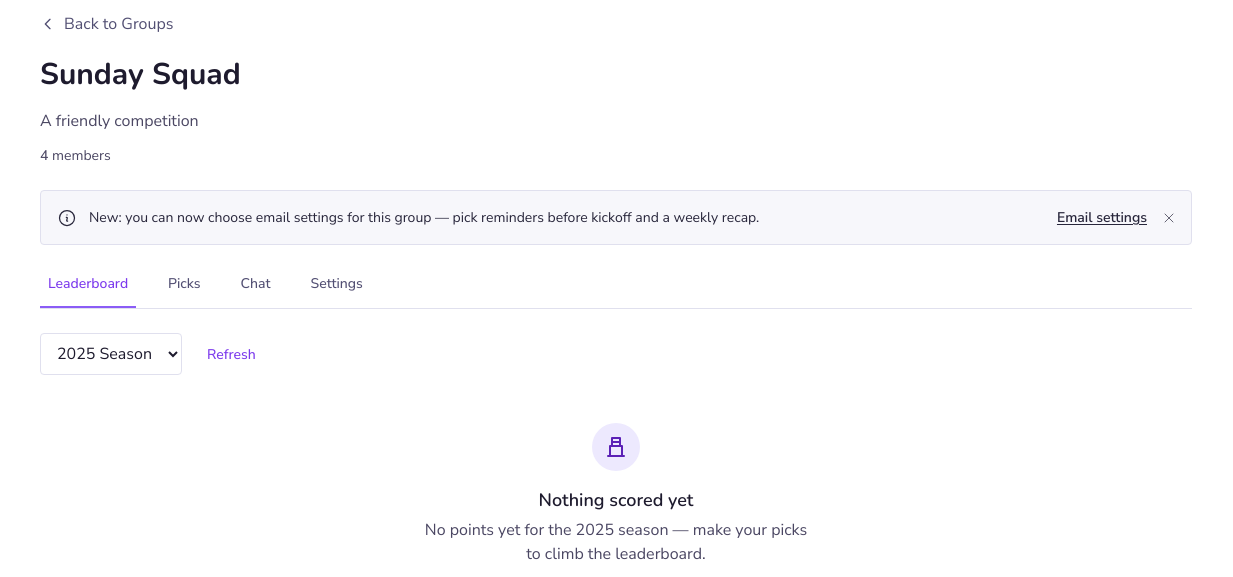
Test case: GroupDetailsPage › unread chat indicator › does not mark the chat read when Chat is opened with nothing unread
This screenshot has width=1233, height=577.
Expected: the heading "Sunday Squad" is shown, [40,54,241,95]
Click the tab "Chat" at (256, 290), box [233,273,278,308]
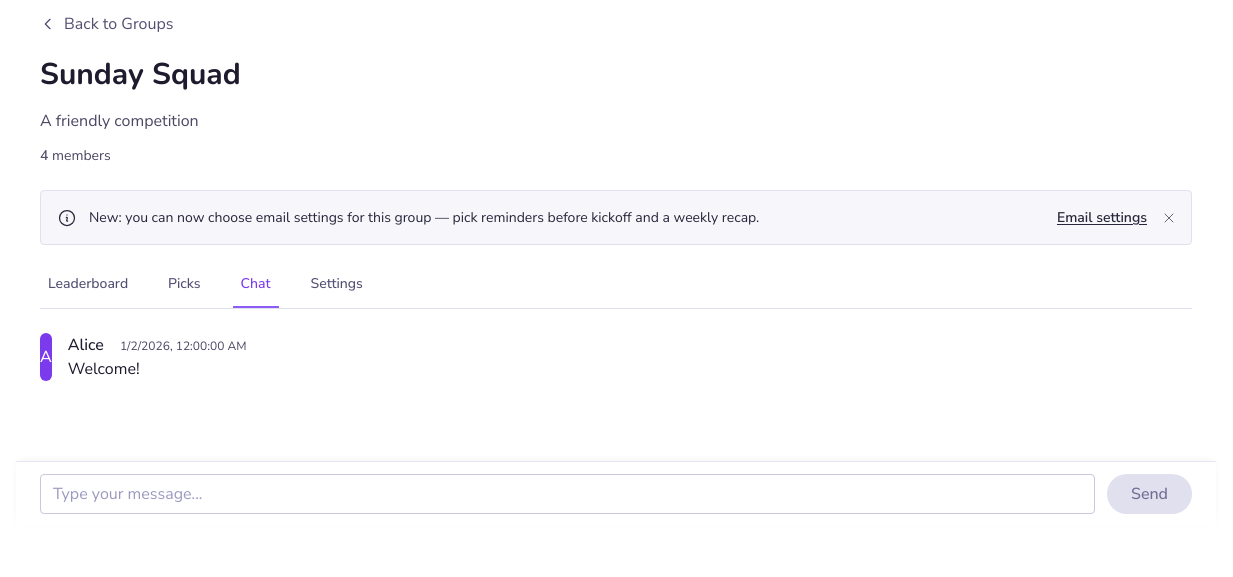
Result: the text "Welcome!" is shown at [68,358,140,380]
